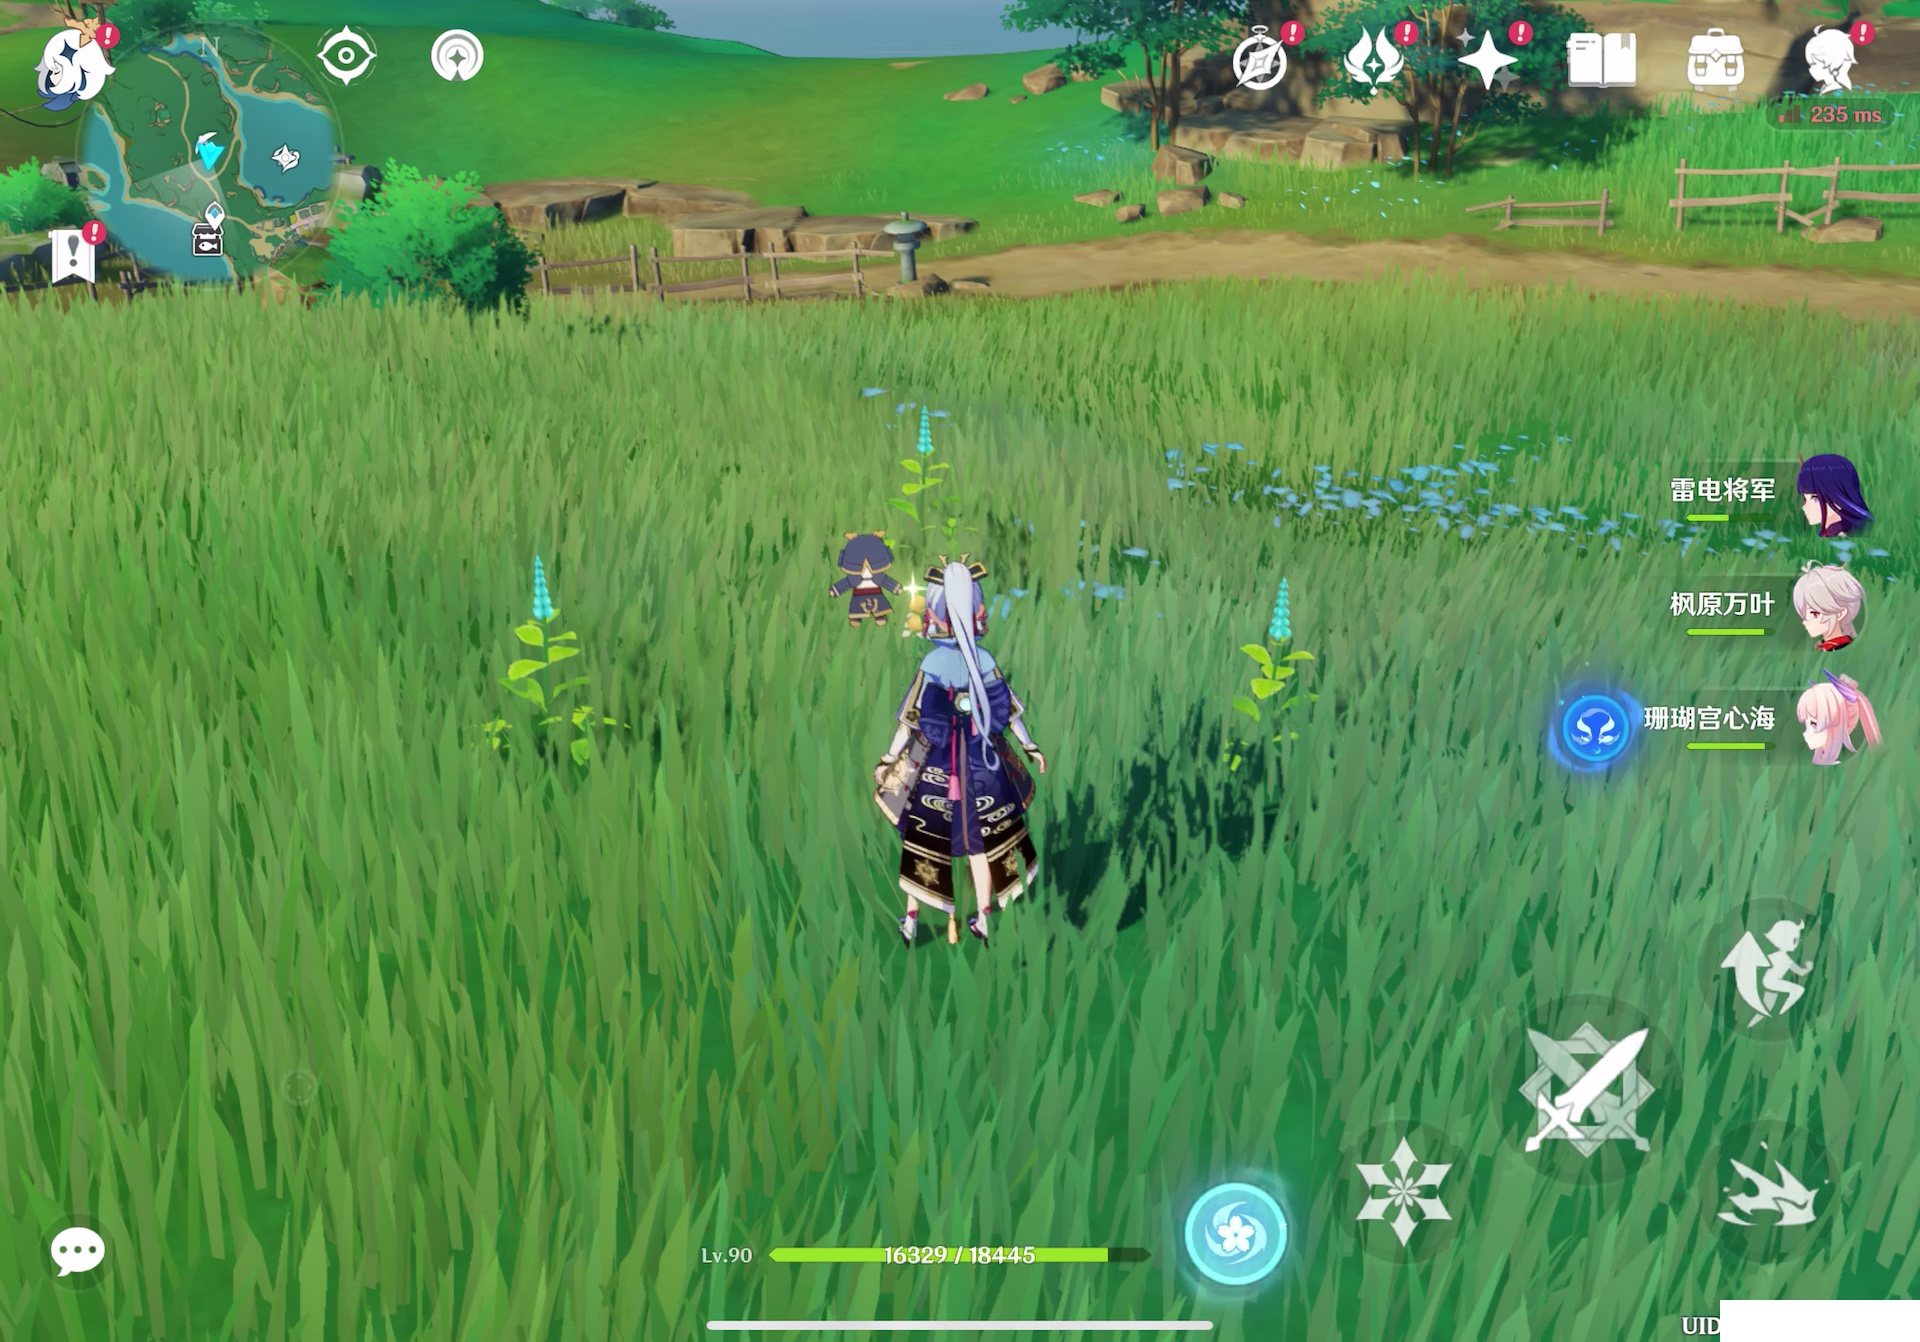没用的薄荷: (479, 535, 635, 796), (1209, 567, 1333, 814), (874, 392, 967, 551)
神里绫龟: (861, 556, 1061, 953)
